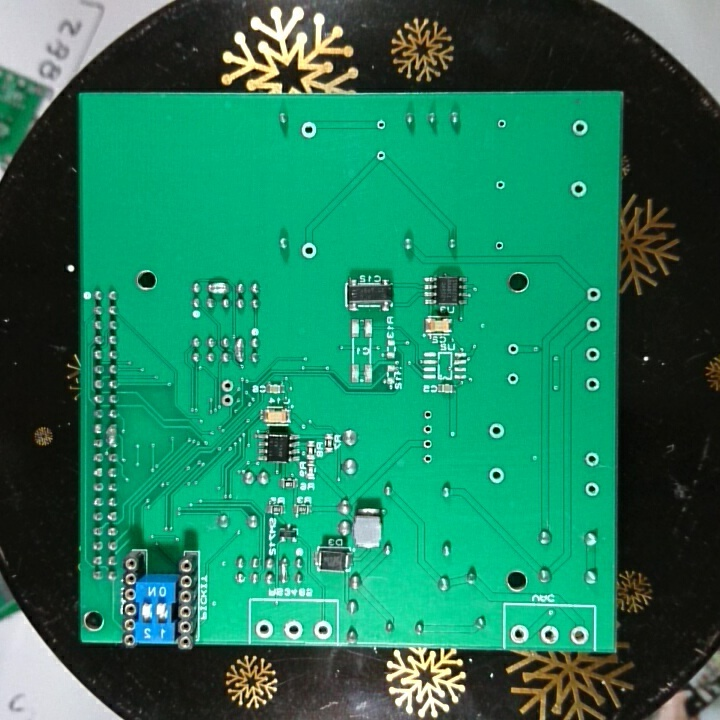F: (568, 622, 591, 647), (537, 623, 559, 647), (296, 119, 319, 141), (311, 618, 333, 641), (282, 618, 304, 641), (569, 117, 591, 139), (486, 420, 508, 441), (509, 623, 531, 644), (255, 618, 276, 640), (568, 178, 588, 201), (582, 374, 603, 395), (485, 464, 505, 486), (298, 241, 319, 261), (581, 450, 602, 470), (583, 344, 602, 366), (583, 285, 602, 306), (584, 315, 603, 335), (583, 478, 601, 499), (505, 340, 522, 358), (219, 393, 236, 410), (219, 378, 236, 394), (491, 237, 506, 255), (373, 117, 389, 133), (505, 371, 520, 388), (421, 436, 436, 453), (495, 117, 511, 132), (419, 407, 434, 422), (420, 452, 434, 467), (374, 147, 387, 163), (494, 177, 506, 193), (420, 423, 434, 436)
P: (232, 336, 247, 366), (205, 278, 229, 295), (104, 422, 119, 449), (277, 556, 290, 587)
